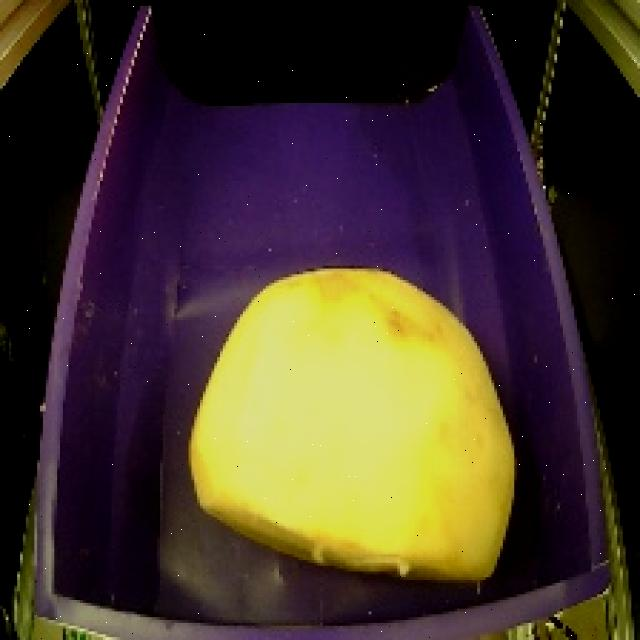full_potato: (171, 246, 546, 599)
